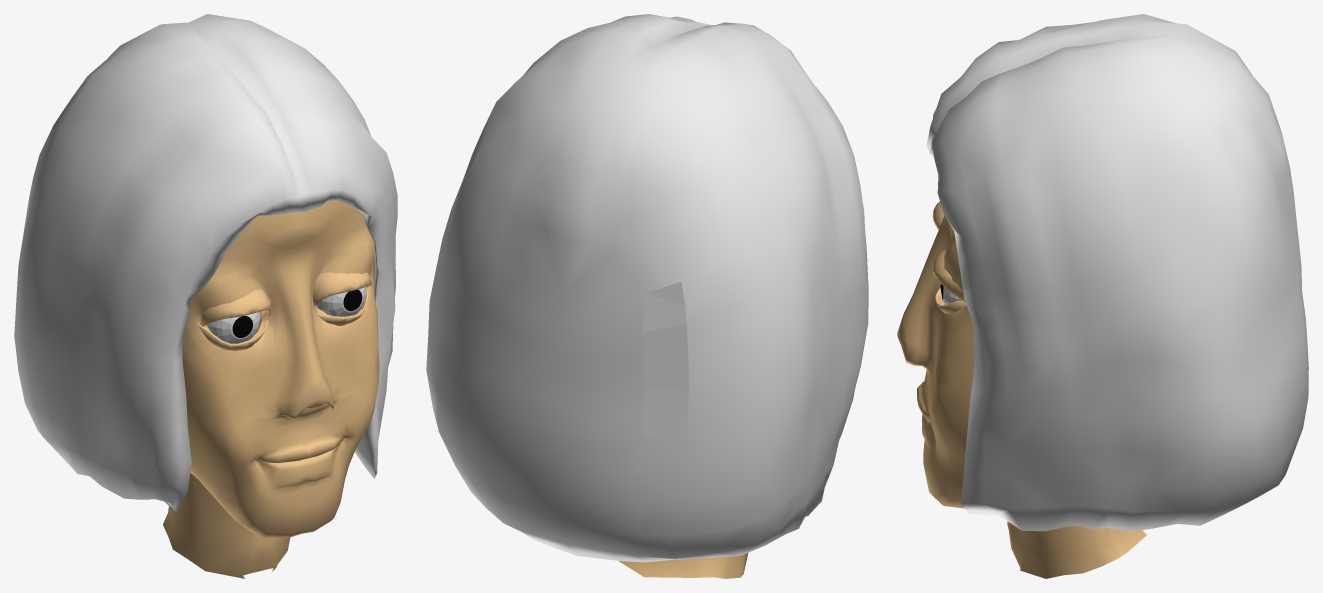
File: head4.fbx
3 renders of one model, left to right at view 1: azimuth 30°, elevation 25°; view 2: azimuth 150°, elevation 25°; view 3: azimuth 270°, elevation 25°, orthographic. The views are drawn at different scales.
Parts seen in each view (by area): view 1: Shortbobhairlopoly, Face.003, Body.006, Eye.007, Eye1.008, Eye1.009, Eye2.008; view 2: Shortbobhairlopoly, Body.006; view 3: Shortbobhairlopoly, Face.003, Body.006, Eye1.009.
Boxes of the visible parts, box(x1,y1,x2,y2) form: Shortbobhairlopoly: box(14, 14, 397, 512); Face.003: box(182, 200, 379, 537); Body.006: box(163, 473, 290, 578); Eye.007: box(206, 287, 366, 343); Eye1.008: box(200, 289, 270, 326); Eye1.009: box(312, 272, 371, 305); Eye2.008: box(198, 310, 268, 350); Shortbobhairlopoly: box(426, 14, 868, 562); Body.006: box(619, 553, 748, 578); Shortbobhairlopoly: box(926, 14, 1308, 531); Face.003: box(897, 216, 974, 508); Body.006: box(1007, 521, 1146, 578); Eye1.009: box(932, 249, 965, 302).
Size of the model in its own units: 40.18 by 59.91 by 41.71.
